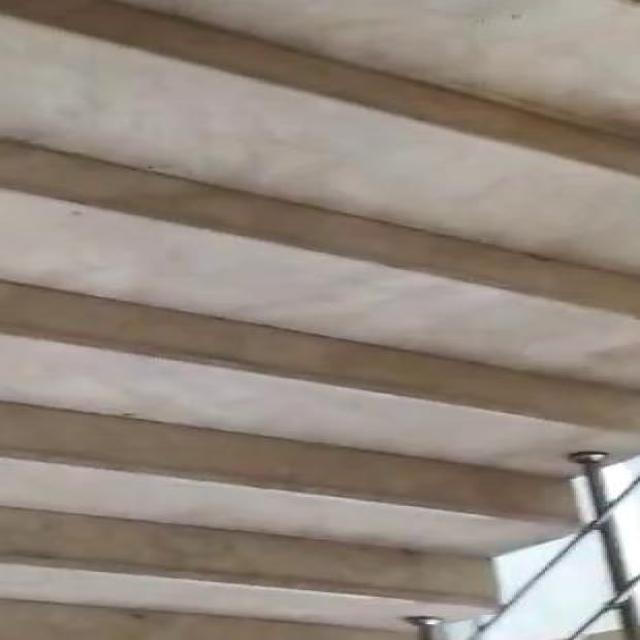Stairs: (28, 33, 598, 628)
